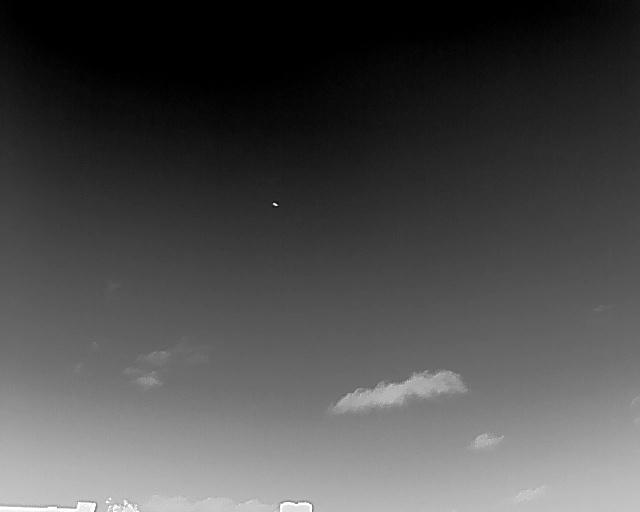fpv-drone: (271, 201, 279, 207)
